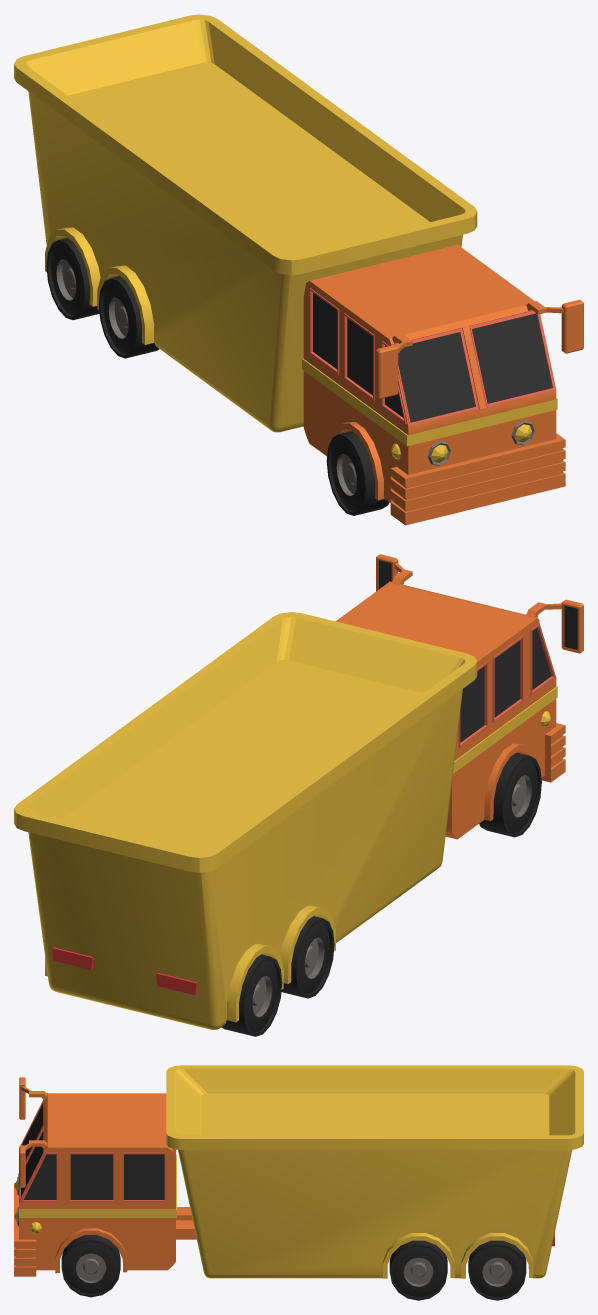
The model's file is civil-truck-B.fbx.
The picture shows the model from 3 angles, top to bottom: view 1: azimuth 30°, elevation 25°; view 2: azimuth 150°, elevation 25°; view 3: azimuth 270°, elevation 25°; orthographic projection. The views are drawn at different scales.
Parts seen in each view (by area): view 1: civil-truck-B, civil-truck--B--front-wheels.002, civil-truck-B-front-wheels.003, civil-truck-B-front-wheels.004; view 2: civil-truck-B, civil-truck--B--front-wheels.002, civil-truck-B-front-wheels.004, civil-truck-B-front-wheels.003; view 3: civil-truck-B, civil-truck--B--front-wheels.002, civil-truck-B-front-wheels.003, civil-truck-B-front-wheels.004.
Boxes of the visible parts, x1,y1,x2,y2 form: civil-truck-B: (14,14,583,525); civil-truck--B--front-wheels.002: (326,431,389,515); civil-truck-B-front-wheels.003: (98,276,159,358); civil-truck-B-front-wheels.004: (46,238,99,320); civil-truck-B: (14,554,583,1029); civil-truck--B--front-wheels.002: (479,752,541,837); civil-truck-B-front-wheels.004: (221,954,282,1036); civil-truck-B-front-wheels.003: (281,916,334,998); civil-truck-B: (14,1065,583,1278); civil-truck--B--front-wheels.002: (61,1235,120,1297); civil-truck-B-front-wheels.003: (389,1240,447,1300); civil-truck-B-front-wheels.004: (468,1240,526,1300).
Bounding box in the file's own units: 2.76 × 2.78 × 8.82.
